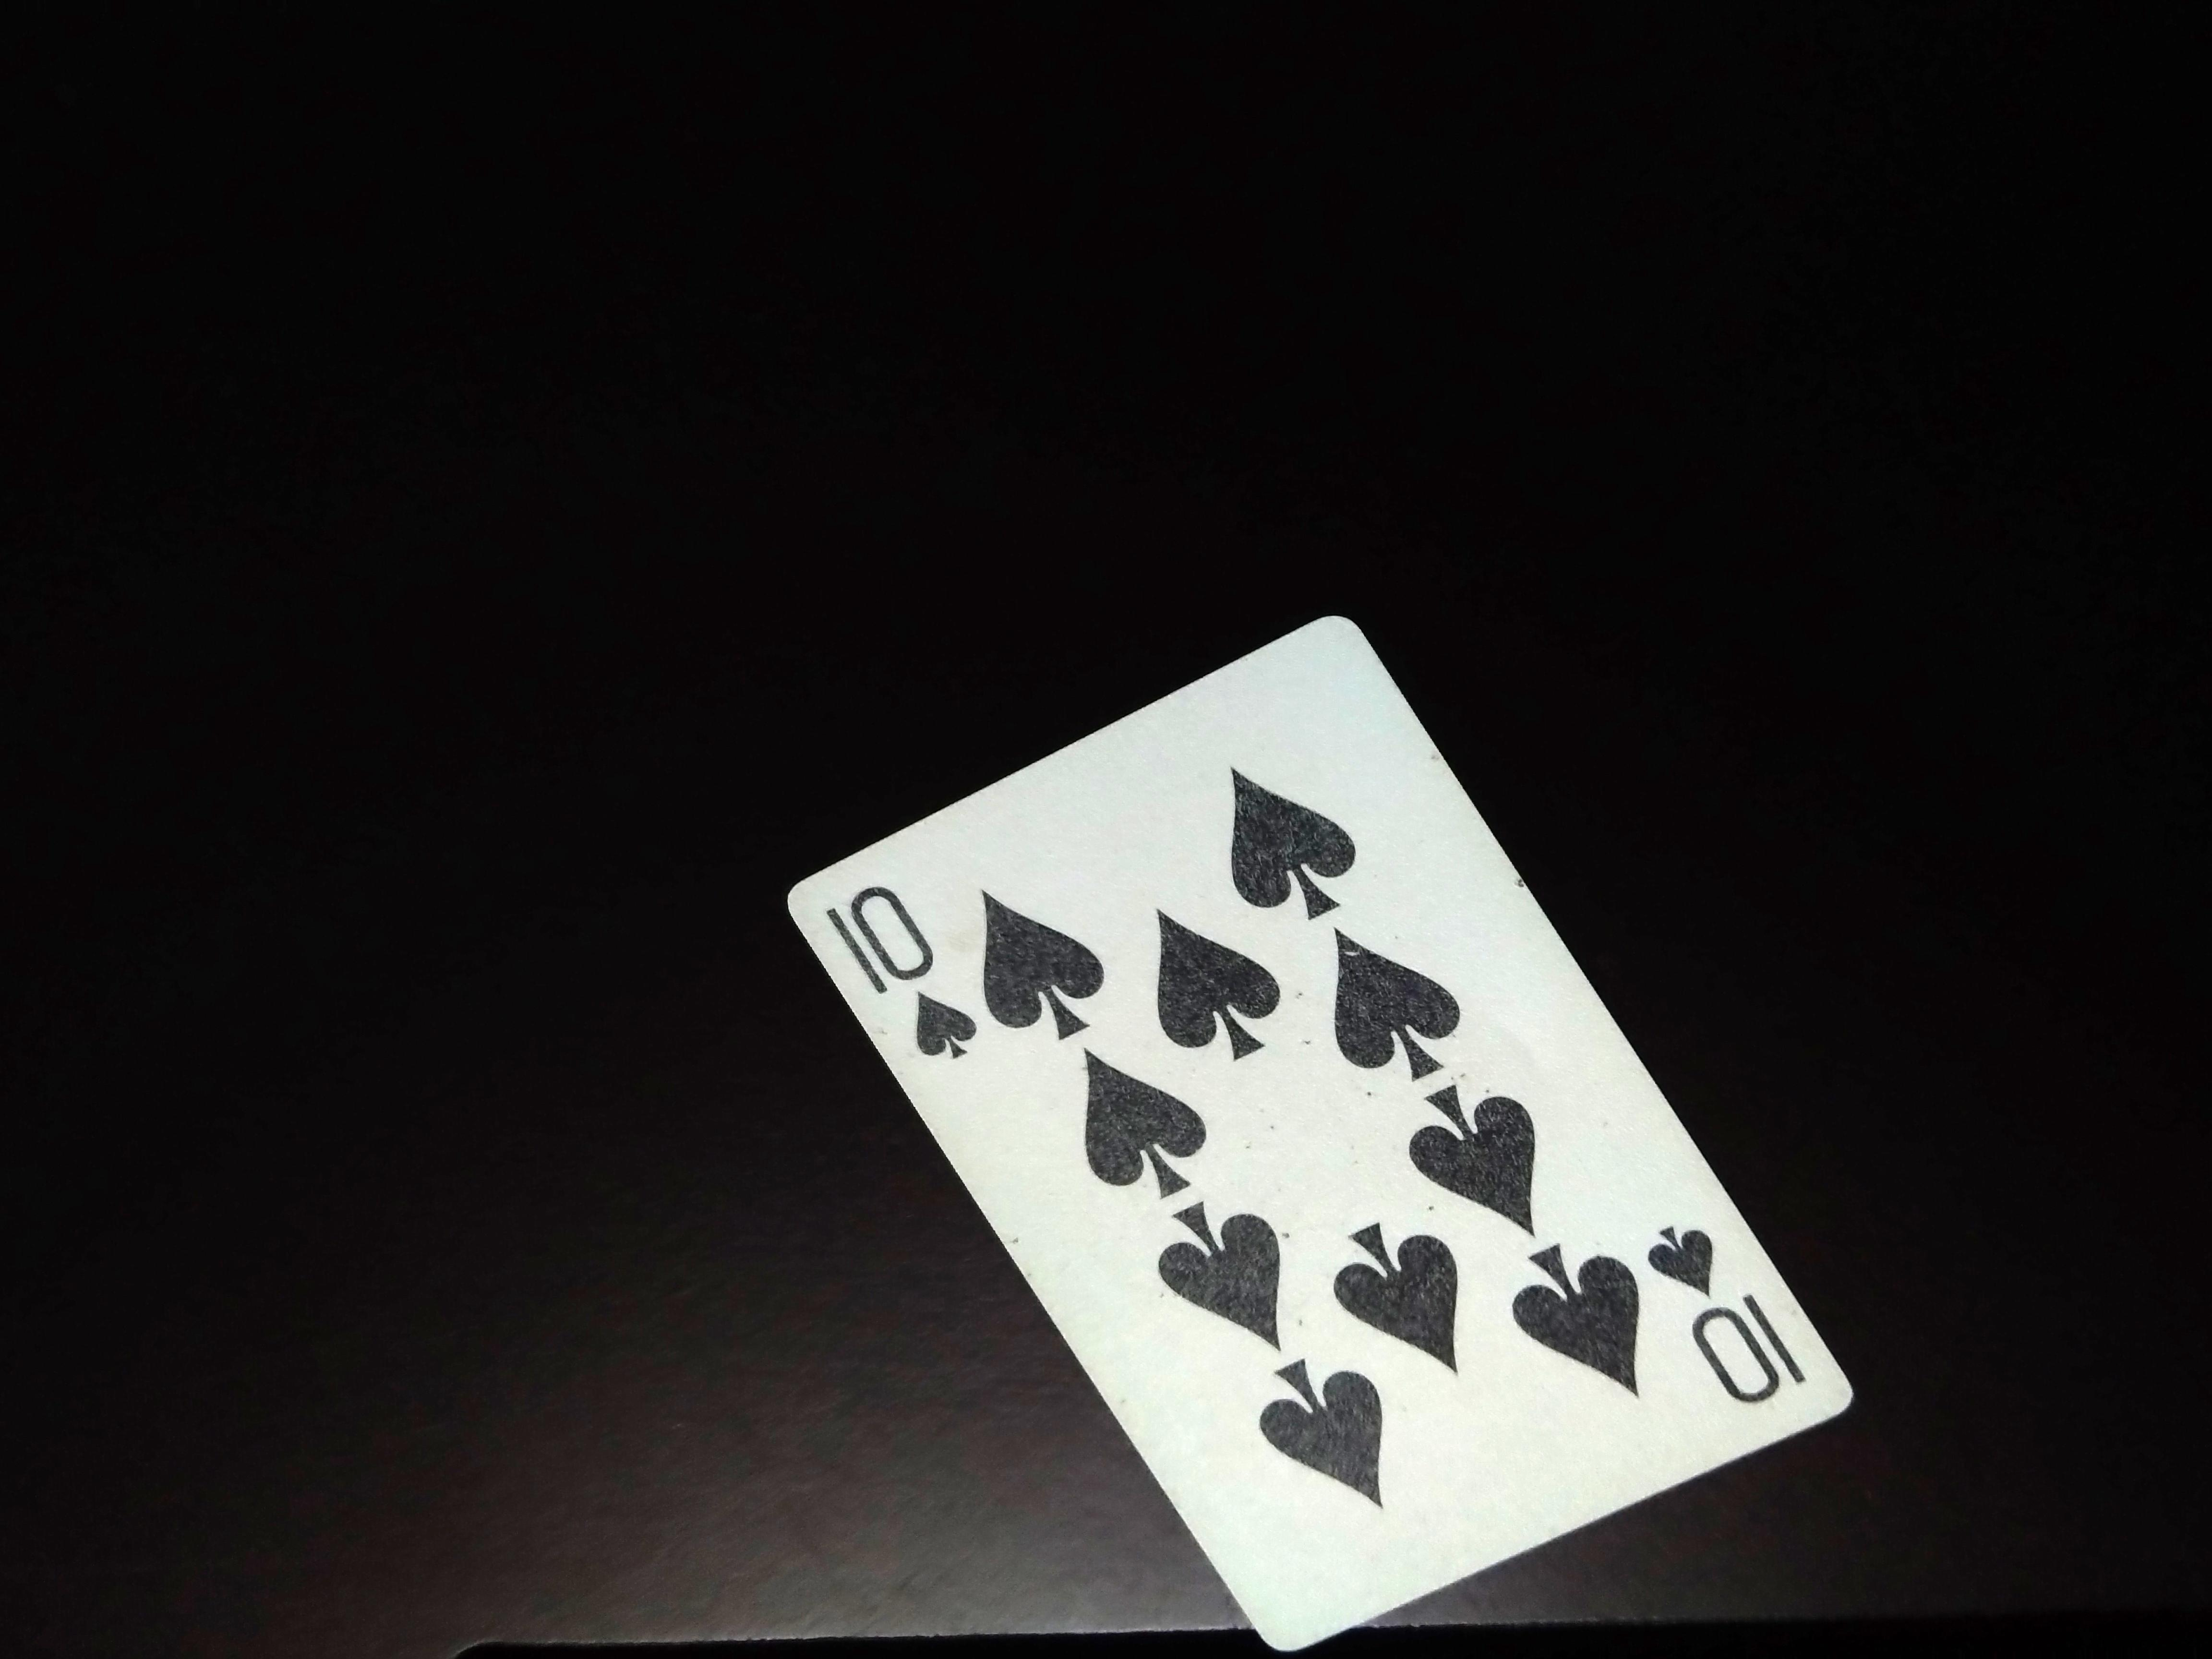10S: (822, 878, 989, 1093)
